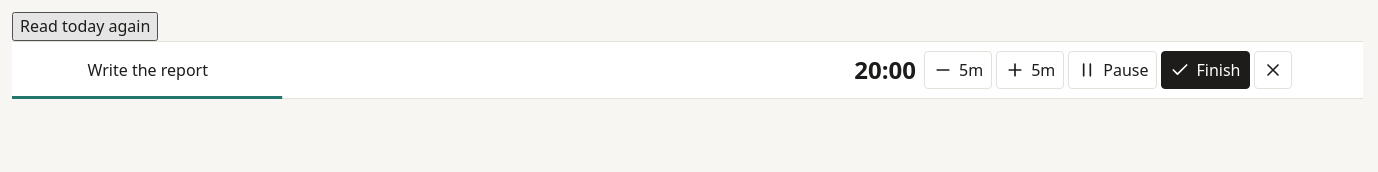
RunningTimerBar › the label › throws the draft away on Escape
Click the button titled "Edit label" at x=148, y=70, box left=84, top=53, right=846, bottom=88
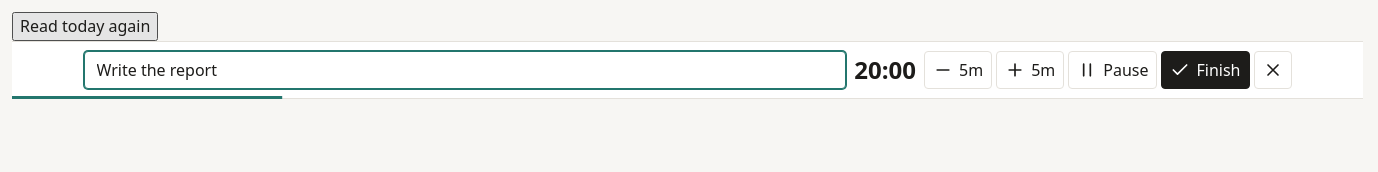
Replace the text in the field named "Session label" with "Not this" at x=465, y=70, box left=84, top=51, right=846, bottom=89
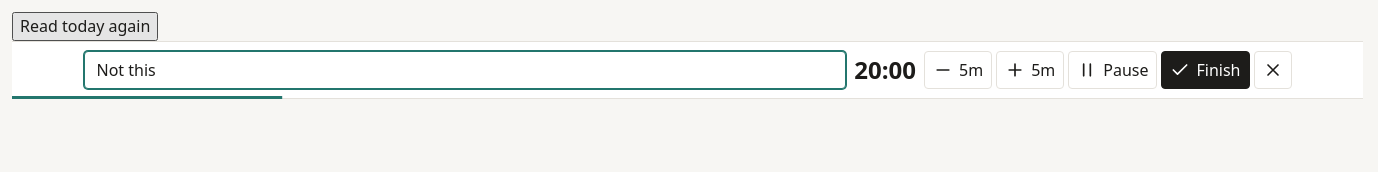
Press Escape in the field named "Session label", box left=84, top=51, right=846, bottom=89
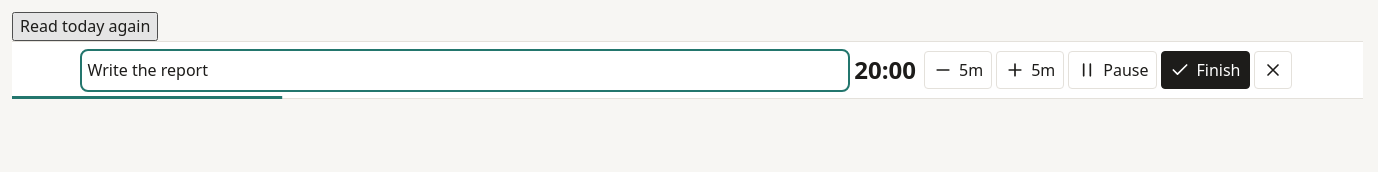
expect the field is gone: met
expect the button titled "Edit label" reads "Write the report": met, box left=84, top=53, right=846, bottom=88
